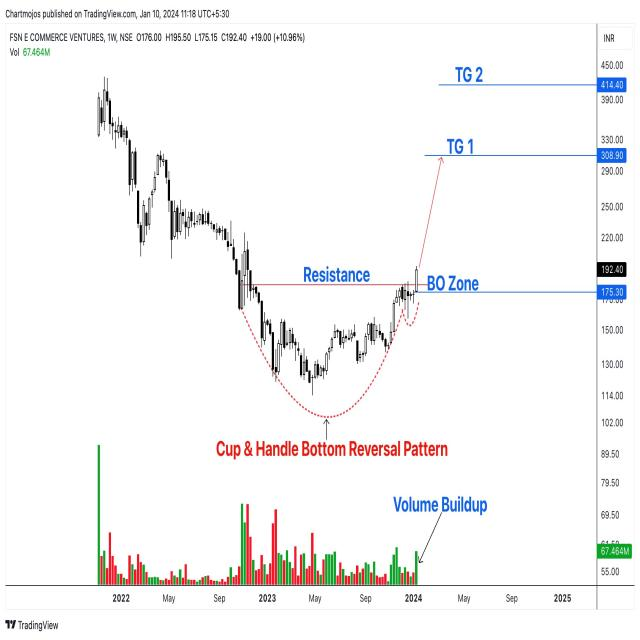Cup-and-handle: (230, 280, 426, 392)
